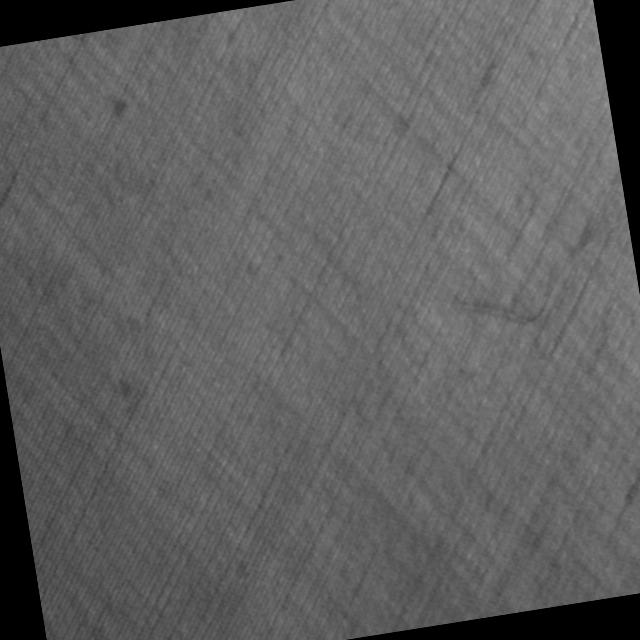objects: (447, 212, 640, 339)
